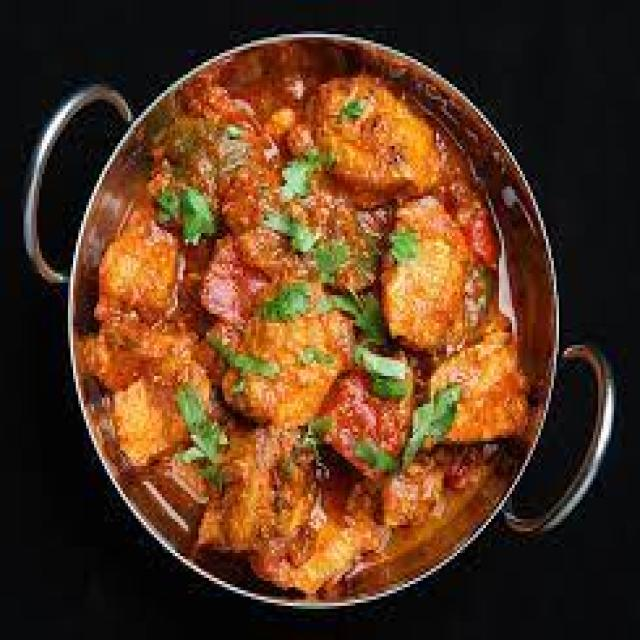Frango: (86, 74, 530, 594)
